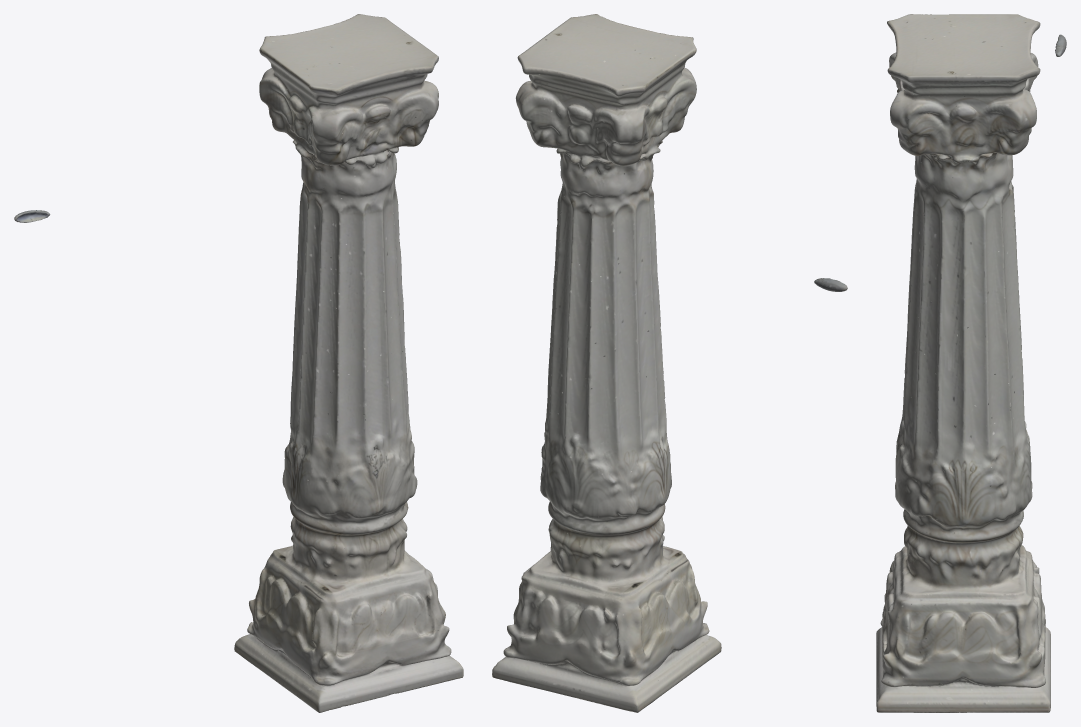
File: Meshy_AI_pilastro_0211094637_texture.glb
3 views of the same model, side by side, from view 1: azimuth 30°, elevation 25°; view 2: azimuth 150°, elevation 25°; view 3: azimuth 270°, elevation 25° (orthographic). The views are drawn at different scales.
Size of the model in its own units: 1.23 by 2 by 0.5471.
1 material, 1 textured.
